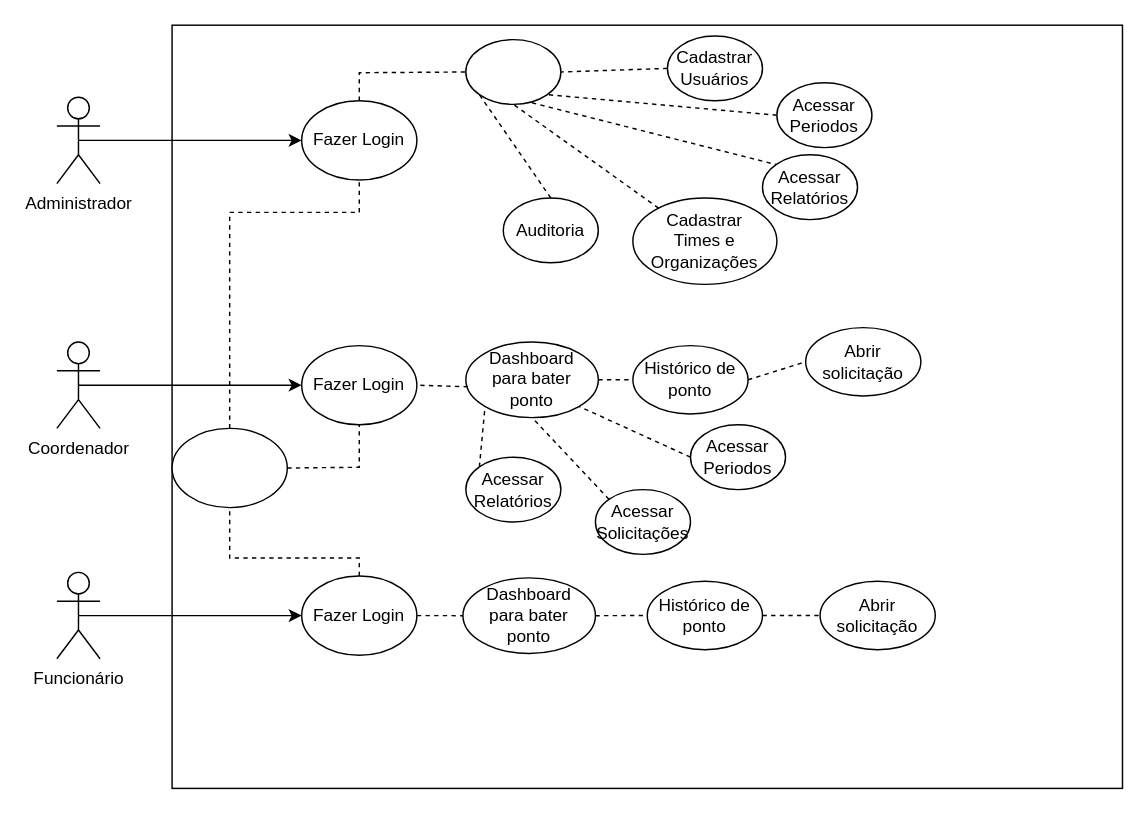
The diagram is 1148 pixels wide and 814 high, and some of its shapes have lost their labels. Each missing label, with the box of its shape:
Autenticar: (171, 427, 287, 508)
Dashboard Admin: (464, 38, 561, 104)
